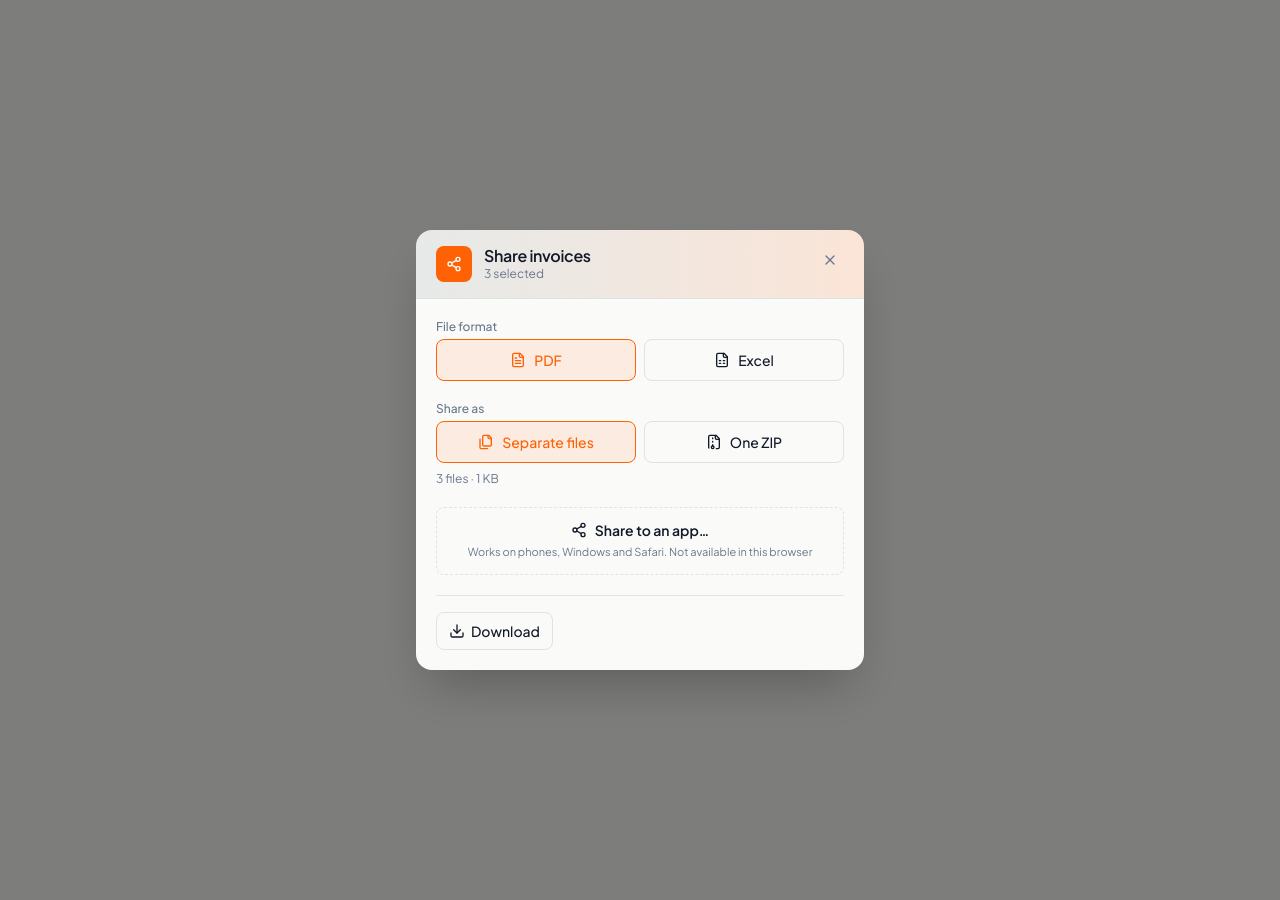
Test: ShareInvoicesDialog › builds one ZIP when asked
This screenshot has width=1280, height=900.
Check: the text "3 files · 1 KB" is shown, box [436,471,499,486]
Step 1. Click the radio button labelled "One ZIP" → (744, 442), box [644,421,844,463]
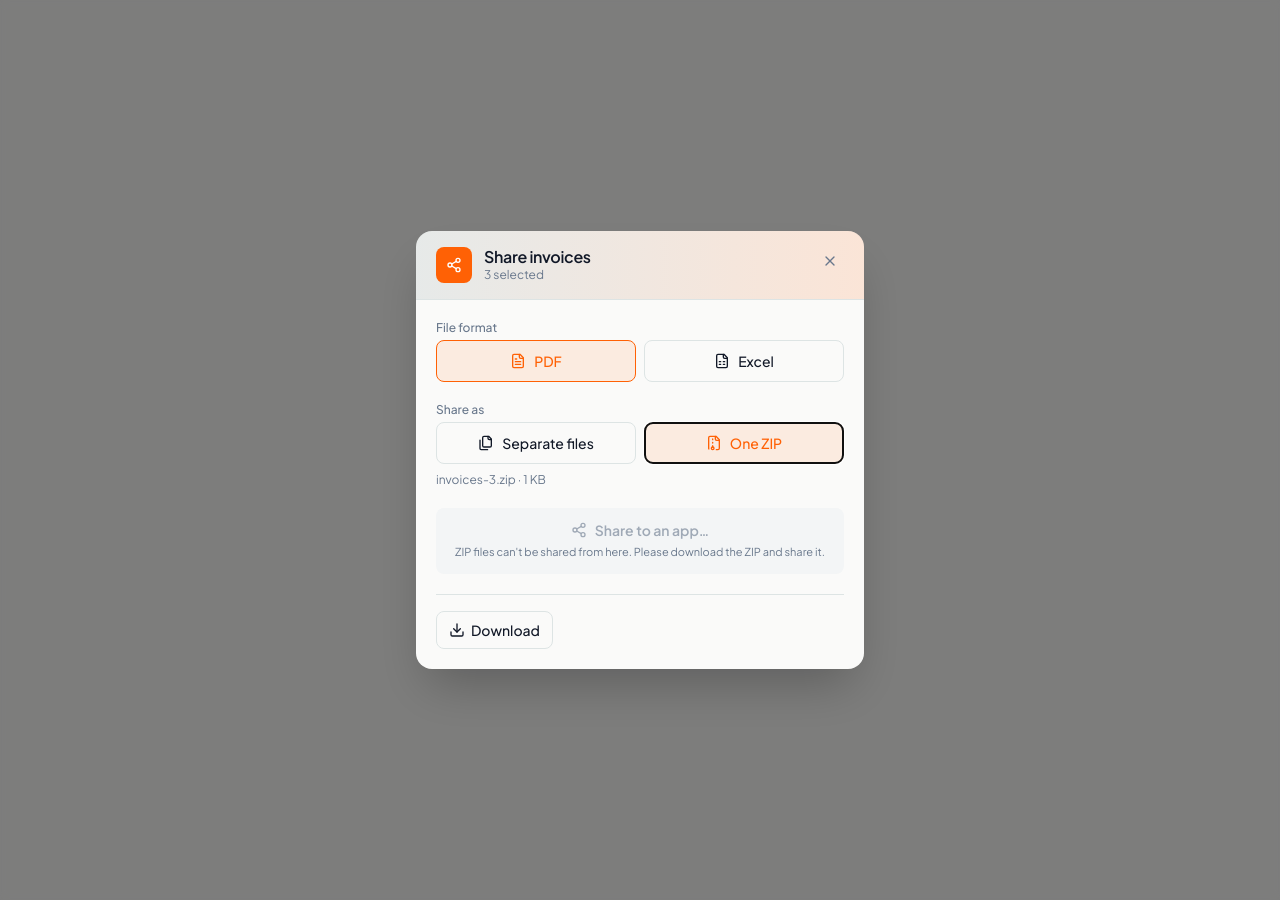
Check: the text "invoices-3.zip · 1 KB" is shown, box [436,472,546,487]
